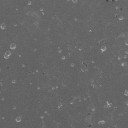corrosion: (3, 50, 13, 59), (99, 43, 108, 53), (9, 42, 18, 50), (117, 13, 125, 21), (15, 116, 22, 123), (98, 120, 105, 127), (1, 23, 7, 31), (123, 89, 128, 95), (61, 55, 66, 61), (11, 79, 17, 83), (70, 63, 75, 67)
